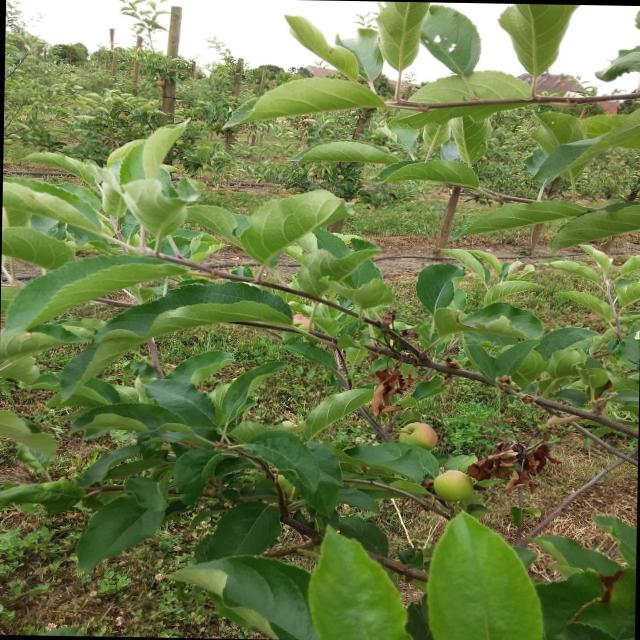-FireBlight-: (472, 440, 544, 484), (358, 359, 409, 416)
